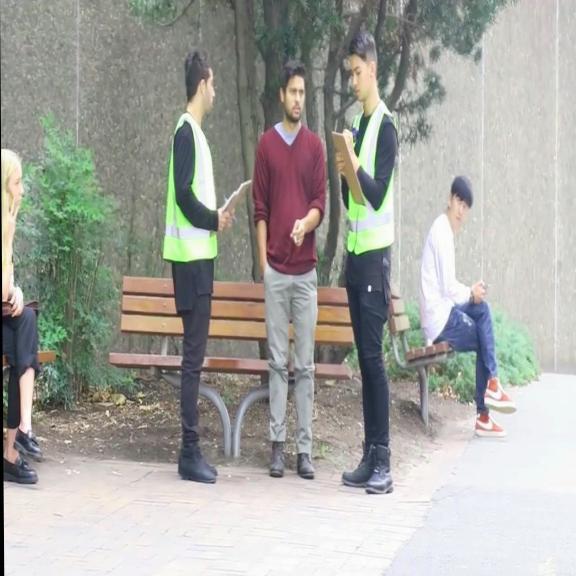safety_vest: (161, 108, 218, 262), (345, 100, 398, 256)
